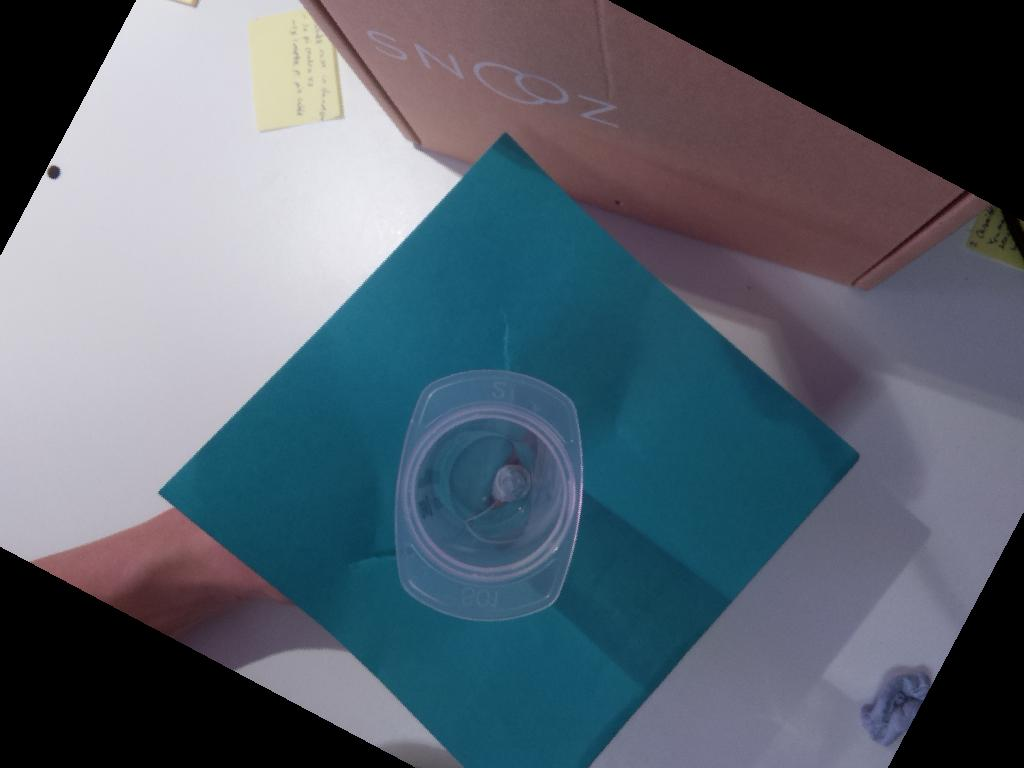clean: (395, 367, 584, 621)
